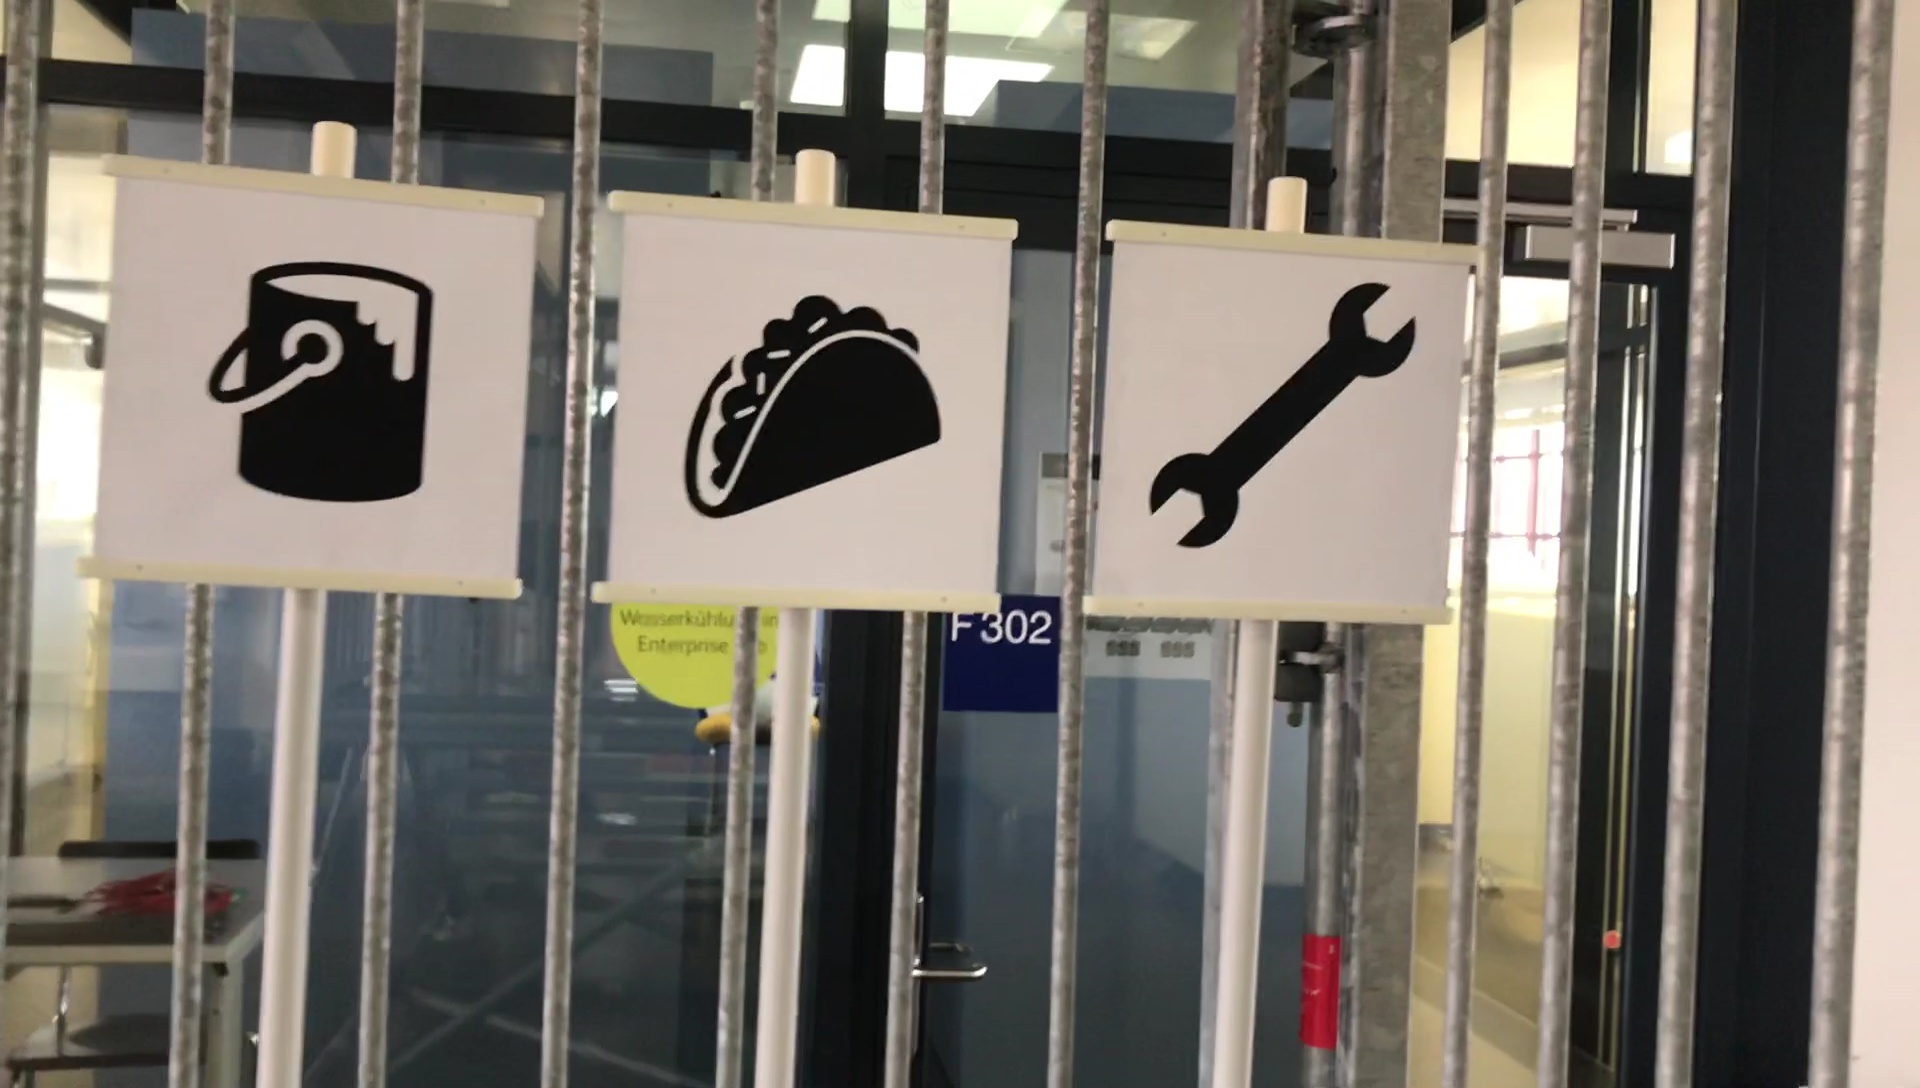bucket: (207, 261, 444, 510)
taco: (680, 287, 959, 533)
wrench: (1143, 274, 1432, 557)
